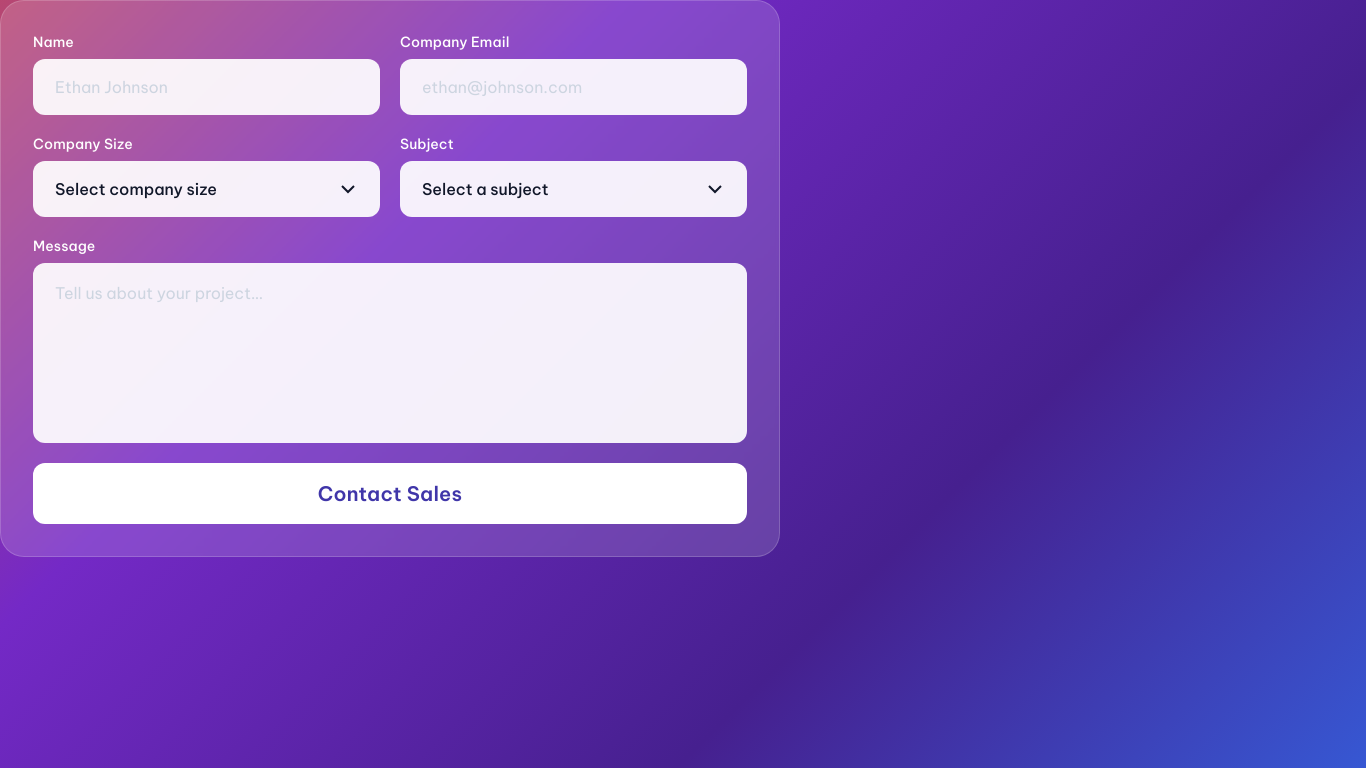
ContactForm › validate function (unit coverage) › rejects an invalid email
In the field labelled "Company Email": (574, 87) left=400, top=59, right=747, bottom=115, type "not-an-email"
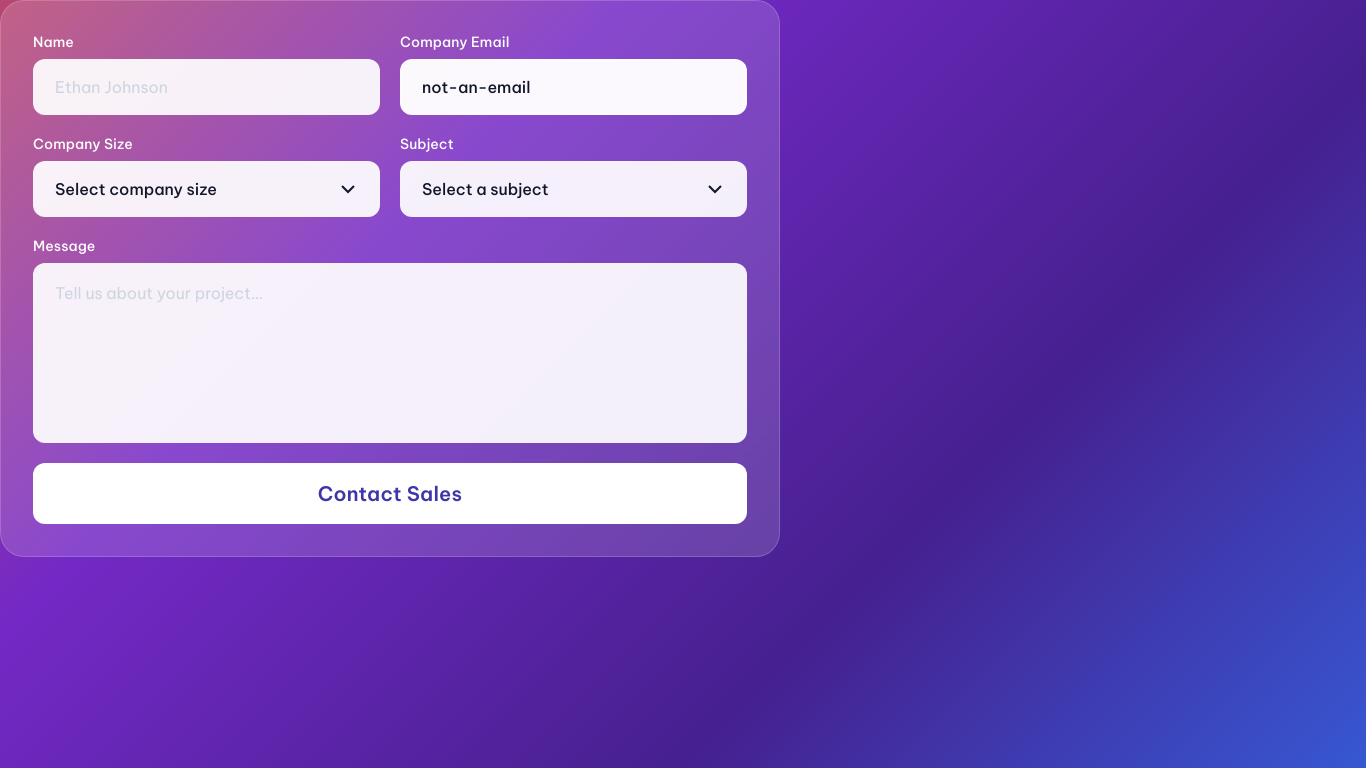
Press Tab
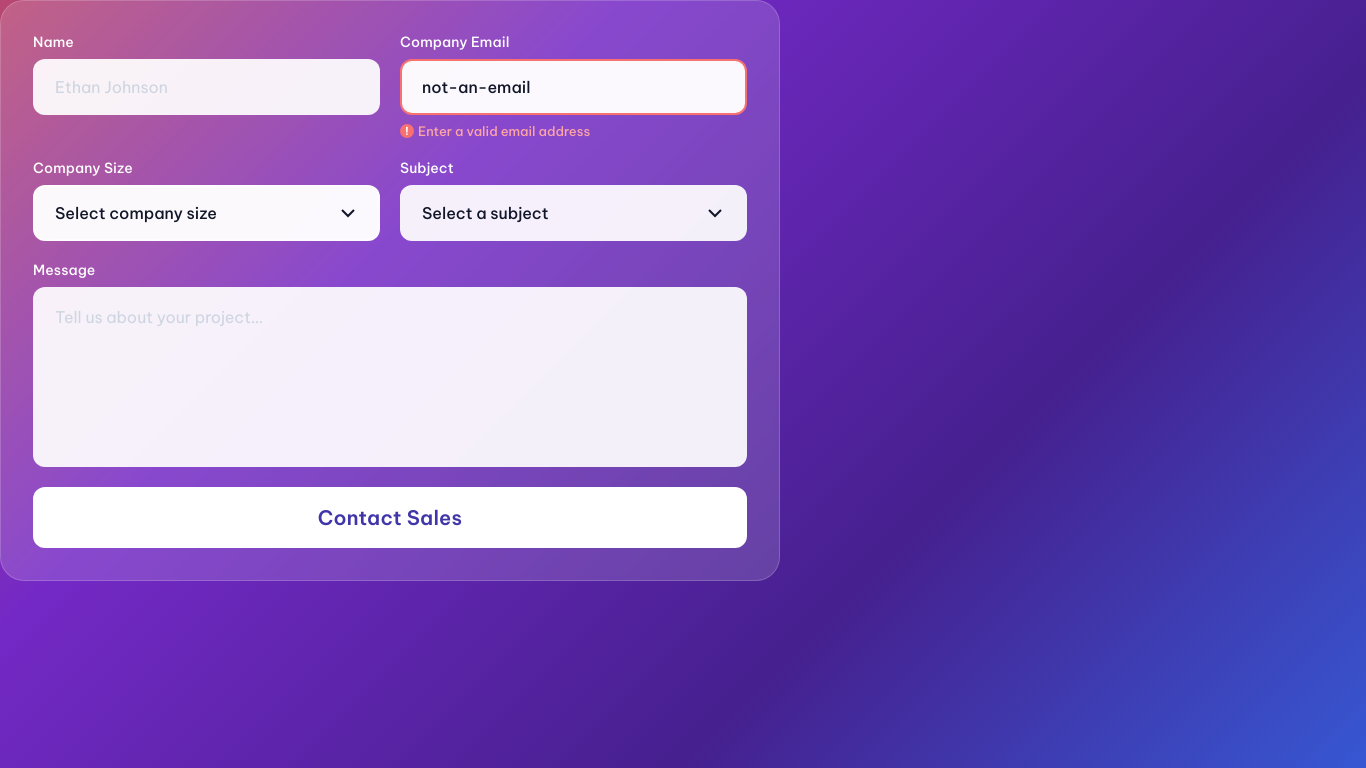
Now the message reads "Enter a valid email address", box left=418, top=123, right=590, bottom=139
